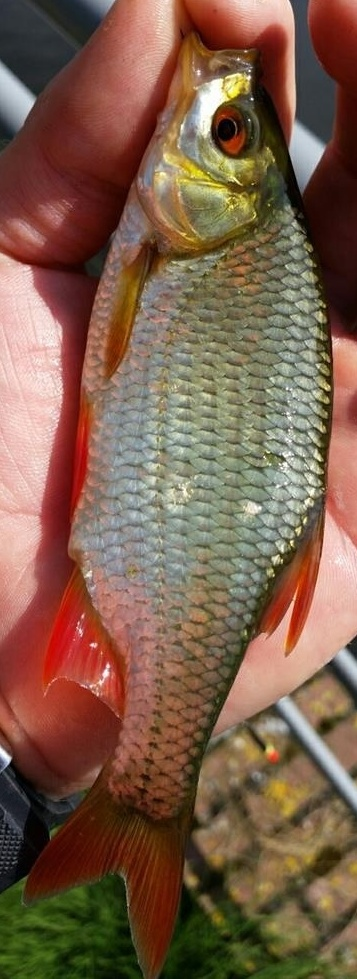Scardinius erythrophthalmus: (20, 20, 337, 979)
